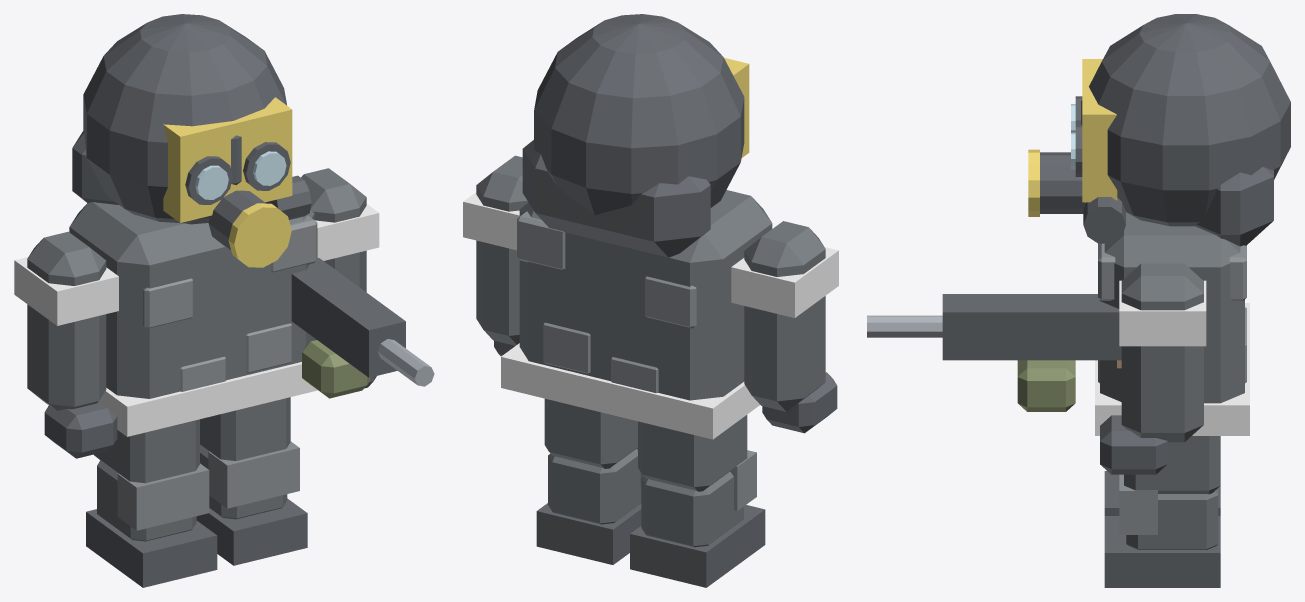
File: rifle@toxico.glb
3 renders of one model, left to right at view 1: azimuth 30°, elevation 25°; view 2: azimuth 150°, elevation 25°; view 3: azimuth 270°, elevation 25°, orthographic. The views are drawn at different scales.
Visible parts, largest first — view 1: main, shinl, shinr, legl, legr; view 2: main, shinl, shinr, legl, legr; view 3: main, shinr, legr, shinl.
Boxes of the visible parts, x1,y1,x2,y2 form: main: (14, 14, 434, 458); shinl: (86, 460, 217, 587); shinr: (196, 441, 307, 565); legl: (93, 419, 199, 483); legr: (200, 397, 290, 460); main: (463, 14, 838, 439); shinl: (630, 450, 765, 587); shinr: (536, 448, 643, 564); legl: (638, 415, 747, 491); legr: (544, 398, 637, 468); main: (867, 14, 1290, 474); shinr: (1104, 474, 1220, 587); legr: (1124, 436, 1220, 494); shinl: (1104, 471, 1220, 515).
Size of the model in its own units: 0.391 by 0.5975 by 0.4382.
